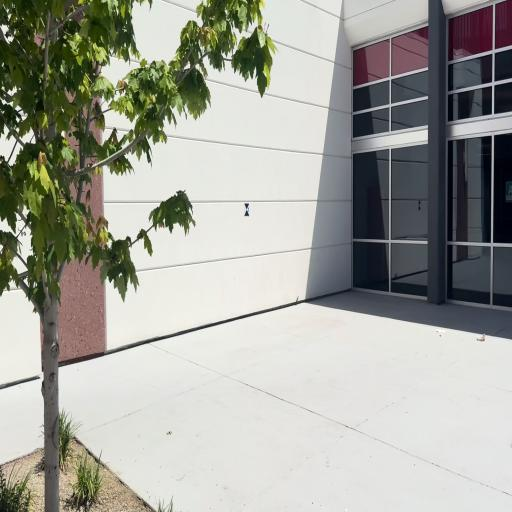target7: (243, 203, 250, 216)
